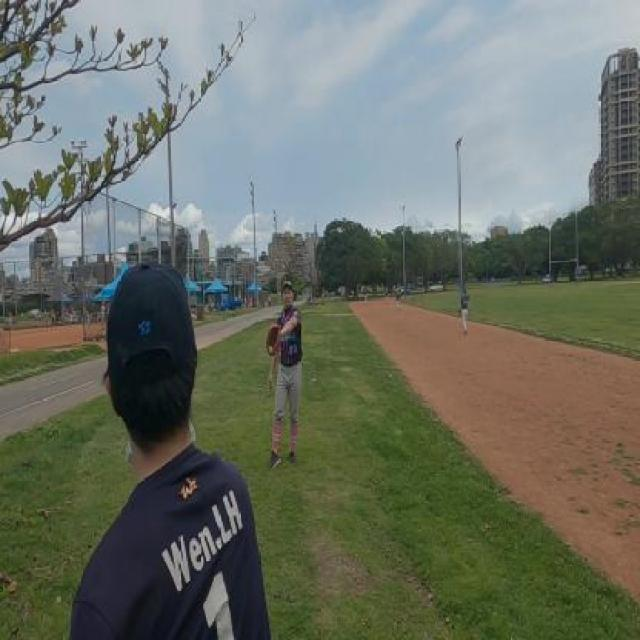baseball: (269, 346, 273, 354)
